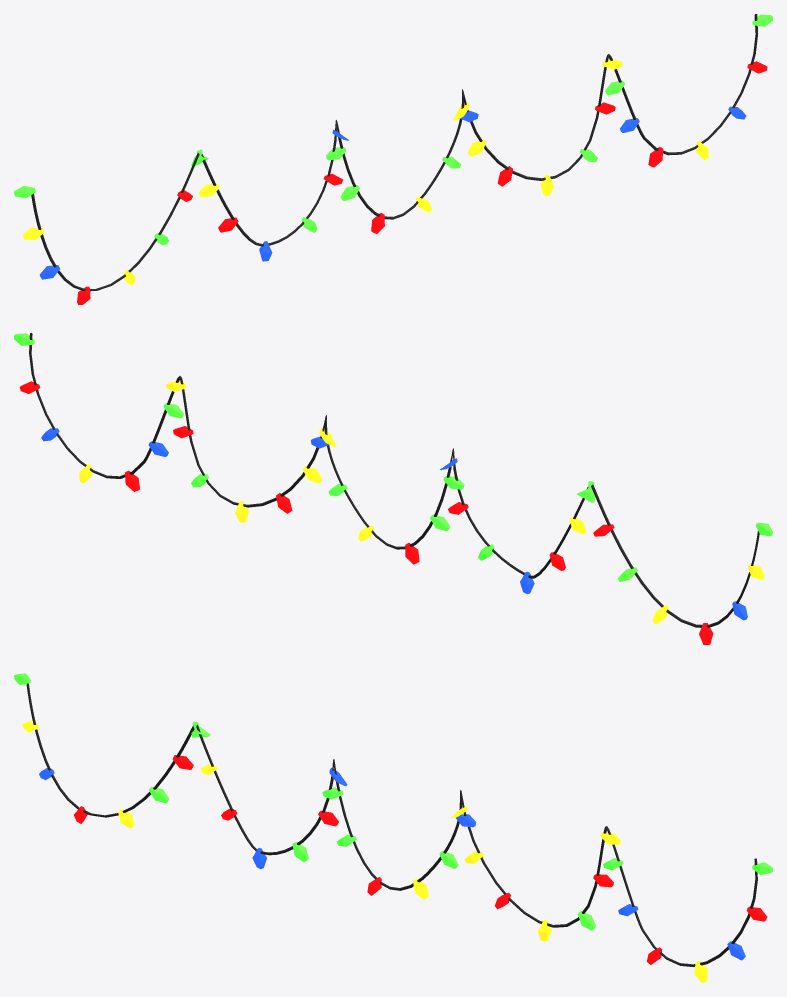
Rendered from christmas lights.fbx.
3 views of the same model, one above another, from view 1: azimuth 30°, elevation 25°; view 2: azimuth 150°, elevation 25°; view 3: azimuth 330°, elevation 25° (orthographic). The views are drawn at different scales.
Visible parts, largest first — view 1: Lights, BezierCurve; view 2: Lights, BezierCurve; view 3: Lights, BezierCurve.
Boxes of the visible parts, x1,y1,x2,y2 form: Lights: [14, 14, 772, 304]; BezierCurve: [31, 14, 757, 291]; Lights: [14, 333, 772, 644]; BezierCurve: [29, 333, 759, 627]; Lights: [14, 673, 772, 982]; BezierCurve: [26, 683, 757, 966].
Bounding box in the file's own units: 1152 × 37.71 × 198.
